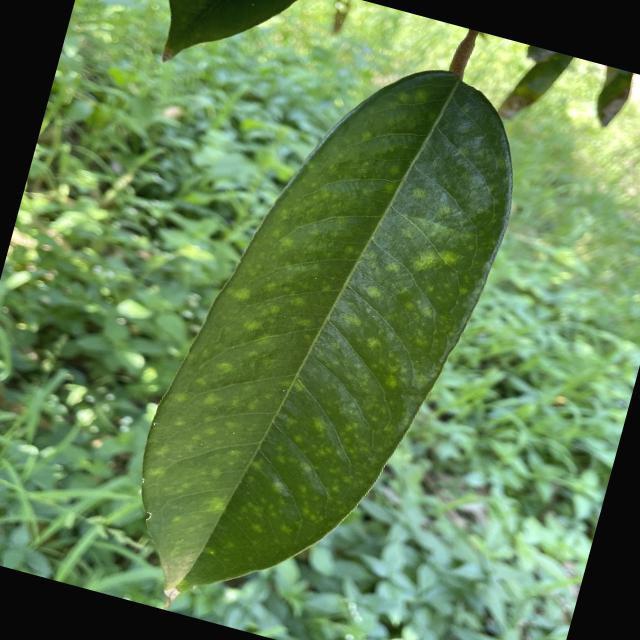Leaf Spot: (98, 13, 546, 639)
